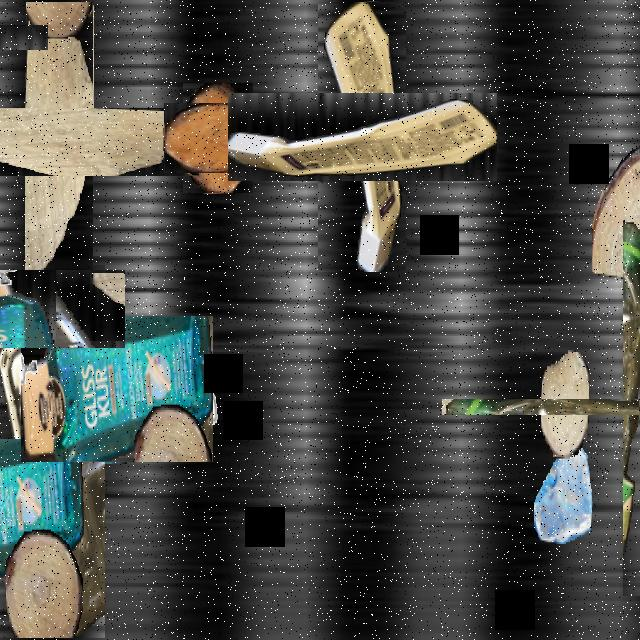glass: (534, 439, 592, 542)
metal: (187, 351, 231, 428), (0, 13, 37, 61)
plastic: (0, 265, 105, 638), (273, 48, 452, 226), (21, 316, 213, 462), (532, 308, 640, 505)
wood: (0, 54, 146, 229), (9, 258, 112, 361), (173, 94, 263, 184), (592, 146, 640, 281), (541, 350, 589, 457)
